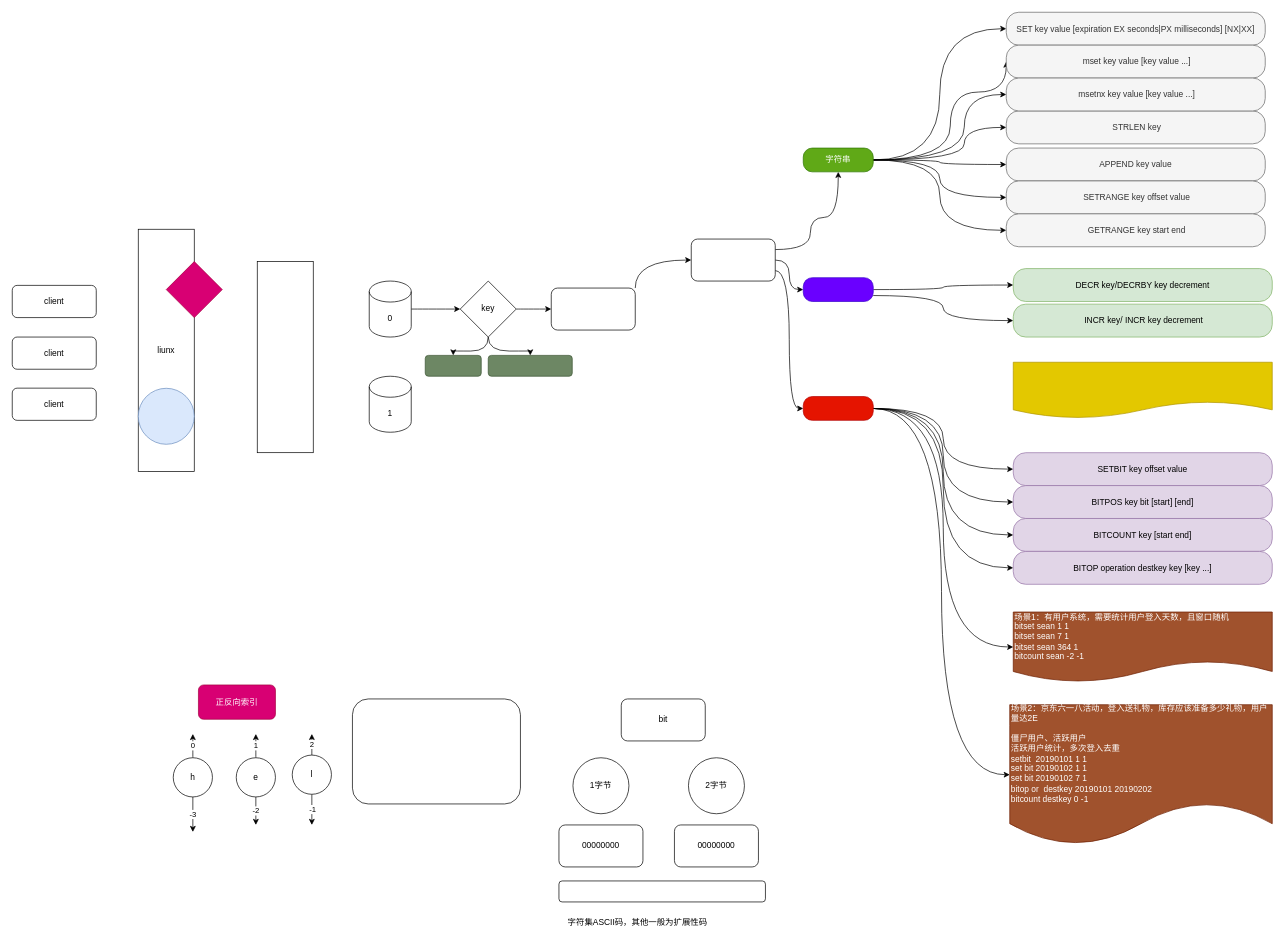
Some shapes in this 1285 by 942 pixel diagram are drawn without their labels. Here are the shapes that lost their labels. From the top down, the centre of each, then its label:
[733,259]: string
[194,289]: epoll
[593,308]: value
[838,289]: 数值
[285,357]: port:6379
[453,365]: TYPE key
[530,365]: object encoding key
[838,408]: bitmap
[1142,390]: 场景：抢购，秒杀，详情页，点赞，评论。 规避并发下，对数据库的事务操作，完全由Redis内存操作代替(计算向数据移动)
[166,416]: kernel
[436,751]: 二进制安全： Redis存储数据时，只为字节流，客户端和redis保持一致性的编码和解码，编码相同，数据就不会被破坏。基于此，Redis适用于多语言开发
[661,891]: 00000000 表示整个内容
